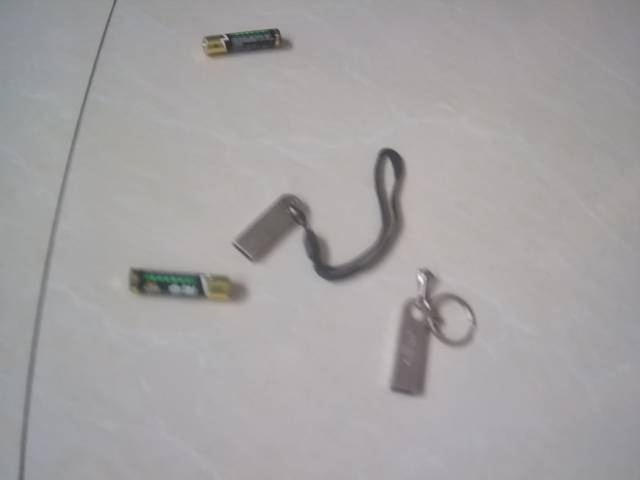U-disk: (228, 179, 410, 274), (384, 268, 482, 399)
battery: (121, 268, 241, 308), (193, 27, 291, 59)
